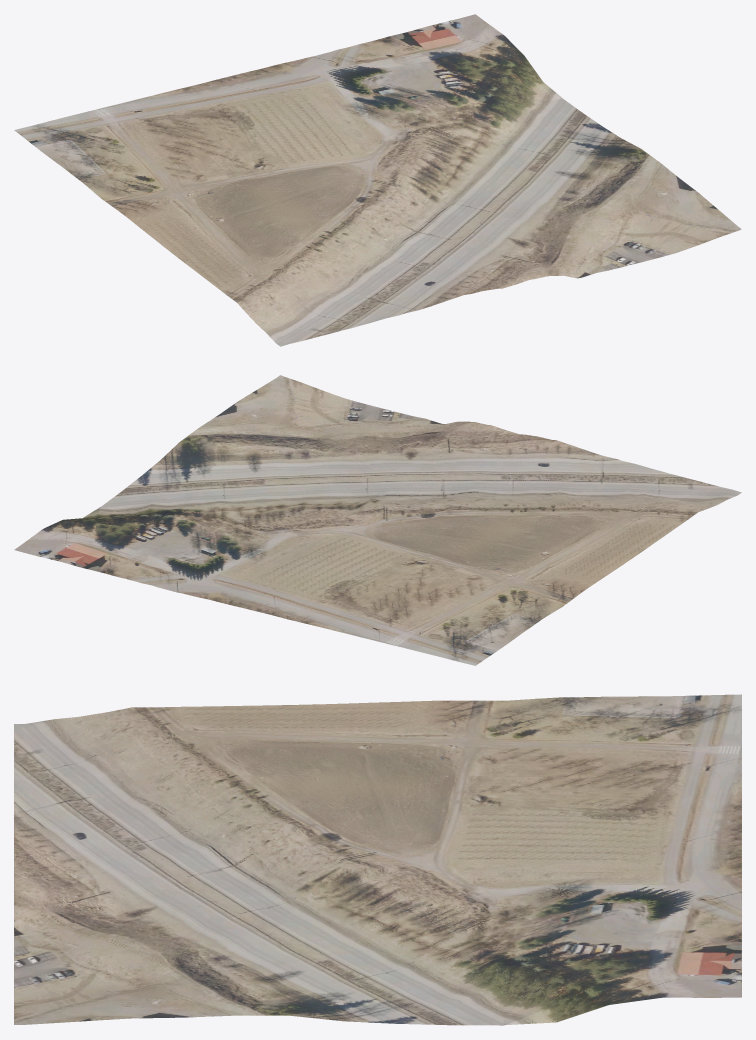
File: CM_Terrain_24492506_6817951.fbx
3 views of the same model, one above another, from view 1: azimuth 30°, elevation 25°; view 2: azimuth 150°, elevation 25°; view 3: azimuth 270°, elevation 25° (orthographic). The views are drawn at different scales.
Parts seen in each view (by area): view 1: CM_Terrain_24492506_6817951_LOD0; view 2: CM_Terrain_24492506_6817951_LOD0; view 3: CM_Terrain_24492506_6817951_LOD0.
Part boxes in pixels (x1,y1,x2,y2): CM_Terrain_24492506_6817951_LOD0: [14, 14, 741, 346]; CM_Terrain_24492506_6817951_LOD0: [14, 375, 741, 665]; CM_Terrain_24492506_6817951_LOD0: [14, 694, 741, 1025].
Size of what is drawn, in the model's own units: 205 by 12.45 by 205.
